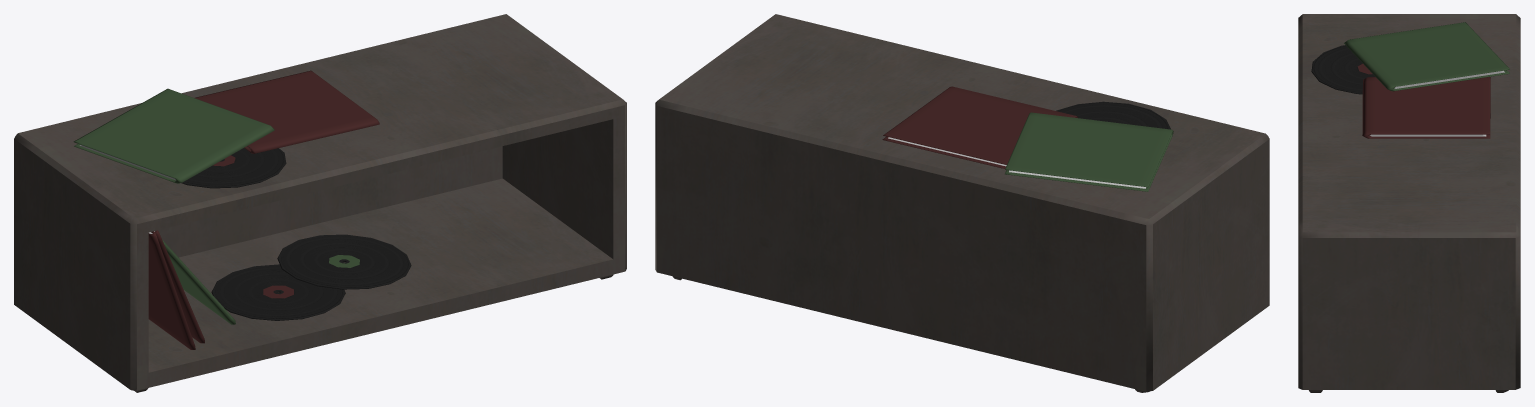
The model's file is wooden_shelf_music.glb.
3 renders of one model, left to right at view 1: azimuth 30°, elevation 25°; view 2: azimuth 150°, elevation 25°; view 3: azimuth 270°, elevation 25°, orthographic. The views are drawn at different scales.
Parts seen in each view (by area): view 1: WoodenShelfMusic; view 2: WoodenShelfMusic; view 3: WoodenShelfMusic.
Boxes of the visible parts, bbox=[...] form: WoodenShelfMusic: bbox=[14, 14, 626, 392]; WoodenShelfMusic: bbox=[655, 14, 1269, 392]; WoodenShelfMusic: bbox=[1298, 14, 1520, 392].
Size of the model in its own units: 1.76 by 0.6462 by 0.7452.
5 materials, 2 textured.
